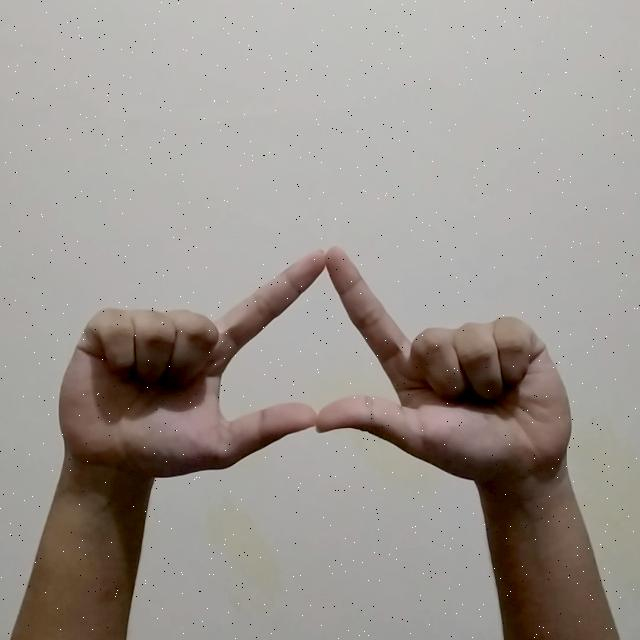A: (38, 238, 593, 500)
